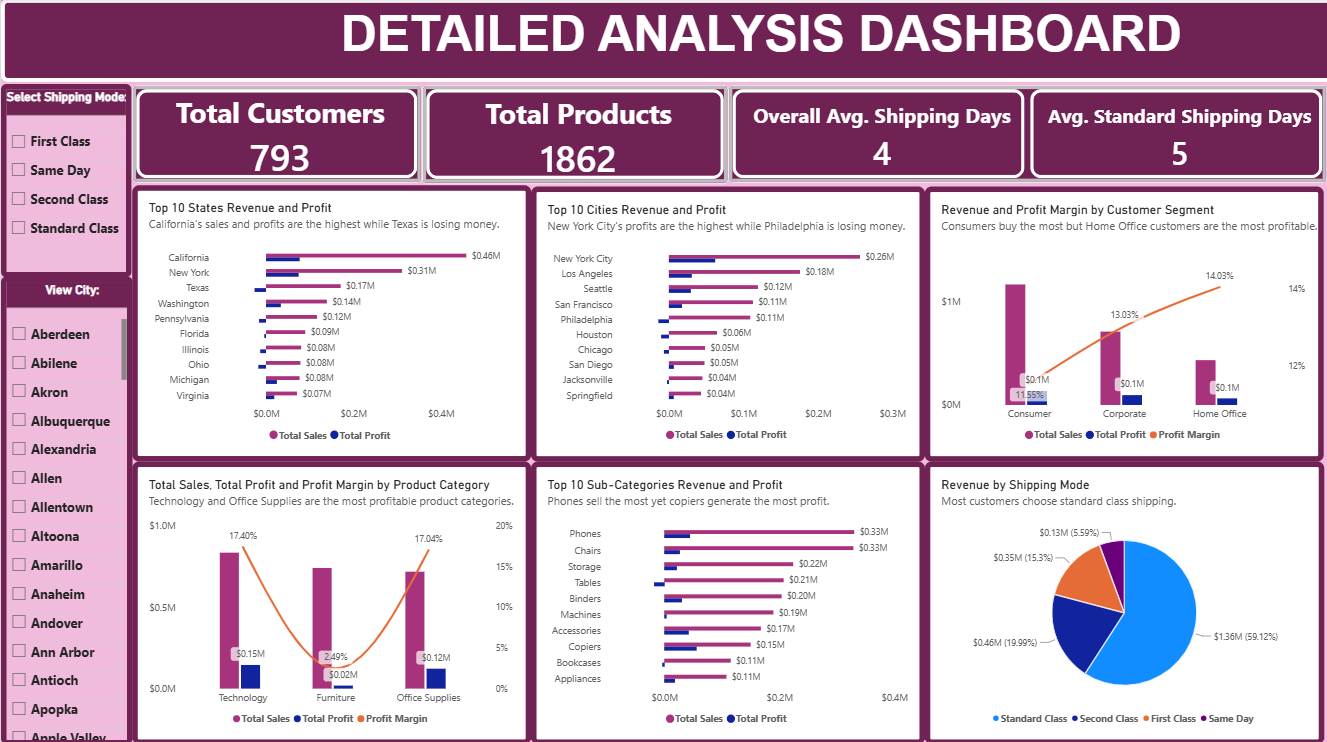

Layout of this report page (visuals, bound fields, positions):
{"tool":"powerbi","page":{"name":"Detailed Dashboard","canvas":[1920,1080],"ordinal":1},"visuals":[{"type":"cardVisual","fields":{"Data":["Calculations.Total Customers"]},"box":[190,124.9,419.8,141.2],"z":0},{"type":"clusteredBarChart","title":"Top 10 Sub-Categories Revenue and Profit","fields":{"Category":["Superstore.Sub-Category"],"Y":["Calculations.Total Sales","Calculations.Total Profit"]},"box":[767.3,669.6,570,410.8],"z":0,"group":"g3"},{"type":"cardVisual","fields":{"Data":["Calculations.Average Shipping Time","Calculations.Avg. Standard Shipping Days"]},"box":[1053.2,124.9,866.8,141.2],"z":1000},{"type":"cardVisual","fields":{"Data":["Calculations.Total No. of Products"]},"box":[609.9,124.9,443.4,143],"z":2000},{"type":"lineClusteredColumnComboChart","title":"Total Sales, Total Profit and Profit Margin by Product Category","fields":{"Category":["Superstore.Category"],"Y":["Calculations.Total Sales","Calculations.Total Profit"],"Y2":["Calculations.Profit Margin"]},"box":[190,669.6,577.3,410.8],"z":2000,"group":"g2"},{"type":"slicer","title":"Select Shipping Mode:","fields":{"Values":["Superstore.Ship Mode"]},"box":[0,122.5,189,280],"z":3000},{"type":"pieChart","title":"Revenue by Shipping Mode","fields":{"Category":["Superstore.Ship Mode"],"Y":["Calculations.Total Sales"]},"box":[1337.3,669.5,578,410],"z":3000,"group":"g1"},{"type":"textbox","box":[0,0,2202,120],"z":4000},{"type":"lineClusteredColumnComboChart","title":"Revenue and Profit Margin by Customer Segment","fields":{"Category":["Superstore.Segment"],"Y":["Calculations.Total Sales","Calculations.Total Profit"],"Y2":["Calculations.Profit Margin"]},"box":[1337.3,271.4,577.3,398.1],"z":5000,"group":"g1"},{"type":"slicer","title":"View City:","fields":{"Values":["Superstore.City"]},"box":[0,402,190,678],"z":5000},{"type":"group","id":"g1","title":"Group 1","box":[1337.3,271.4,578,808.1],"z":6000},{"type":"group","id":"g2","title":"Group 2","box":[189.6,269.8,577.7,810.6],"z":7000},{"type":"clusteredBarChart","title":"Top 10 States Revenue and Profit","fields":{"Category":["Superstore.State"],"Y":["Calculations.Total Sales","Calculations.Total Profit"]},"box":[189.6,269.8,577.3,399.9],"z":7000,"group":"g2"},{"type":"clusteredBarChart","title":"Top 10 Cities Revenue and Profit","fields":{"Category":["Superstore.City"],"Y":["Calculations.Total Sales","Calculations.Total Profit"]},"box":[768,272,570,398],"z":7000,"group":"g3"},{"type":"group","id":"g3","title":"Group 3","box":[767.3,272,570.7,808.4],"z":8000}]}

Visuals, with their boxes in screenshot pixels (x1, y1, x2, y2), scaled from the page's 1920x1080 canvas onto the 1327x742 screenshot:
cardVisual - Calculations.Total Customers: {"left": 131, "top": 86, "right": 421, "bottom": 183}
"Top 10 Sub-Categories Revenue and Profit" clusteredBarChart: {"left": 530, "top": 460, "right": 924, "bottom": 741}
cardVisual - Calculations.Average Shipping Time x Calculations.Avg. Standard Shipping Days: {"left": 728, "top": 86, "right": 1326, "bottom": 183}
cardVisual - Calculations.Total No. of Products: {"left": 422, "top": 86, "right": 728, "bottom": 184}
"Total Sales, Total Profit and Profit Margin by Product Category" lineClusteredColumnComboChart: {"left": 131, "top": 460, "right": 530, "bottom": 741}
"Select Shipping Mode:" slicer: {"left": 0, "top": 84, "right": 131, "bottom": 277}
"Revenue by Shipping Mode" pieChart: {"left": 924, "top": 460, "right": 1324, "bottom": 741}
textbox: {"left": 0, "top": 0, "right": 1326, "bottom": 82}
"Revenue and Profit Margin by Customer Segment" lineClusteredColumnComboChart: {"left": 924, "top": 186, "right": 1323, "bottom": 460}
"View City:" slicer: {"left": 0, "top": 276, "right": 131, "bottom": 741}
"Group 1" group: {"left": 924, "top": 186, "right": 1324, "bottom": 741}
"Group 2" group: {"left": 131, "top": 185, "right": 530, "bottom": 741}
"Top 10 States Revenue and Profit" clusteredBarChart: {"left": 131, "top": 185, "right": 530, "bottom": 460}
"Top 10 Cities Revenue and Profit" clusteredBarChart: {"left": 531, "top": 187, "right": 925, "bottom": 460}
"Group 3" group: {"left": 530, "top": 187, "right": 925, "bottom": 741}
